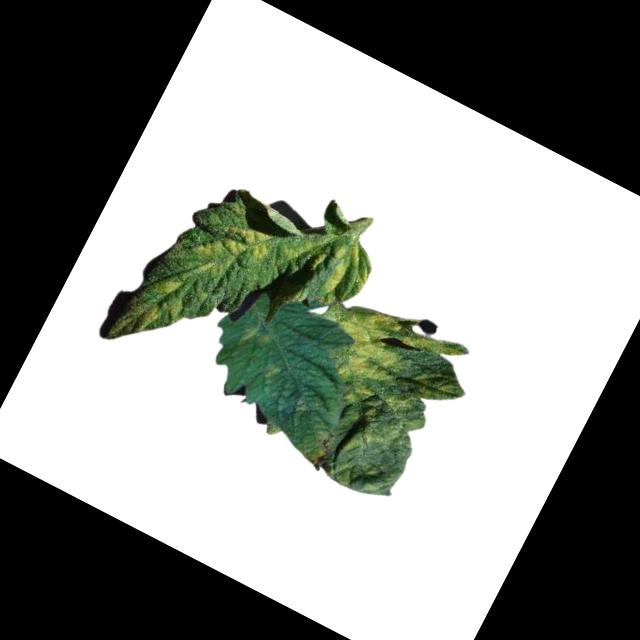Leaf_Mold: (294, 287, 418, 415), (191, 204, 276, 281), (316, 236, 380, 309), (135, 270, 193, 341), (234, 319, 273, 357)
